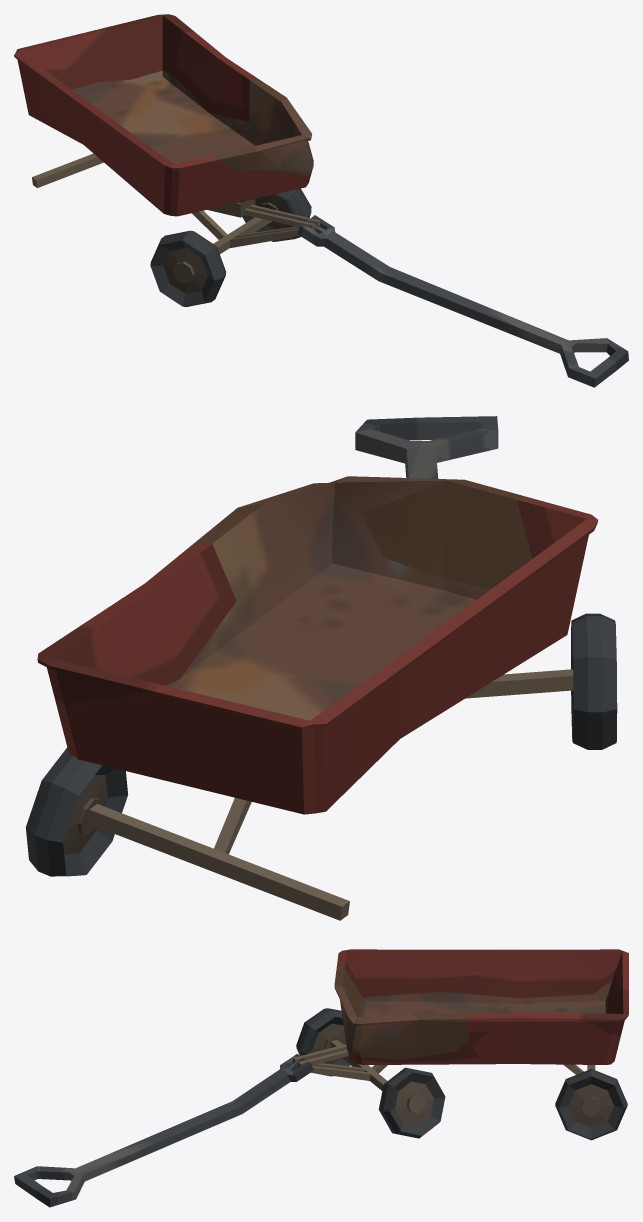
The model's file is apoc_SM_Prop_Cart_01.gltf.
The picture shows the model from 3 angles, top to bottom: view 1: azimuth 30°, elevation 25°; view 2: azimuth 150°, elevation 25°; view 3: azimuth 270°, elevation 25°; orthographic projection. The views are drawn at different scales.
Parts seen in each view (by area): view 1: SM_Prop_Cart_01; view 2: SM_Prop_Cart_01; view 3: SM_Prop_Cart_01.
Boxes of the visible parts, box(x1,y1,x2,y2) form: SM_Prop_Cart_01: box(14, 14, 628, 387); SM_Prop_Cart_01: box(25, 416, 617, 920); SM_Prop_Cart_01: box(14, 949, 628, 1207).
Bounding box in the file's own units: 0.9948 × 0.4482 × 1.92.
Materials: 1 (1 with a texture image).
